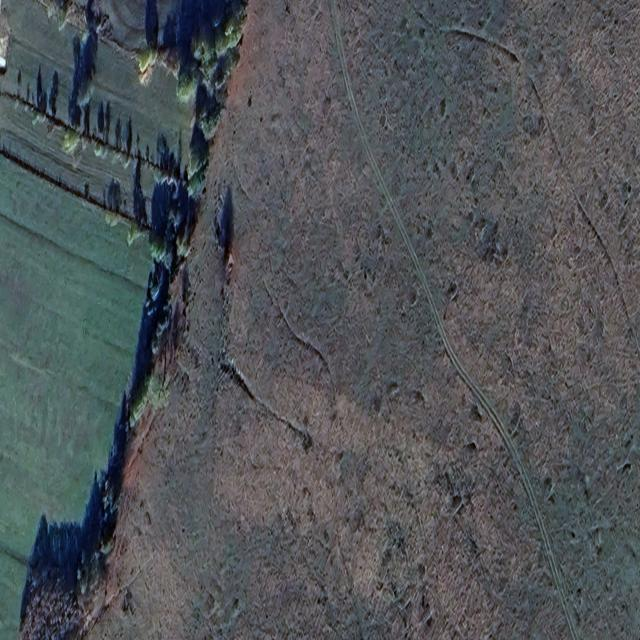bare-soil: (41, 0, 640, 639)
tree: (6, 0, 247, 639)
